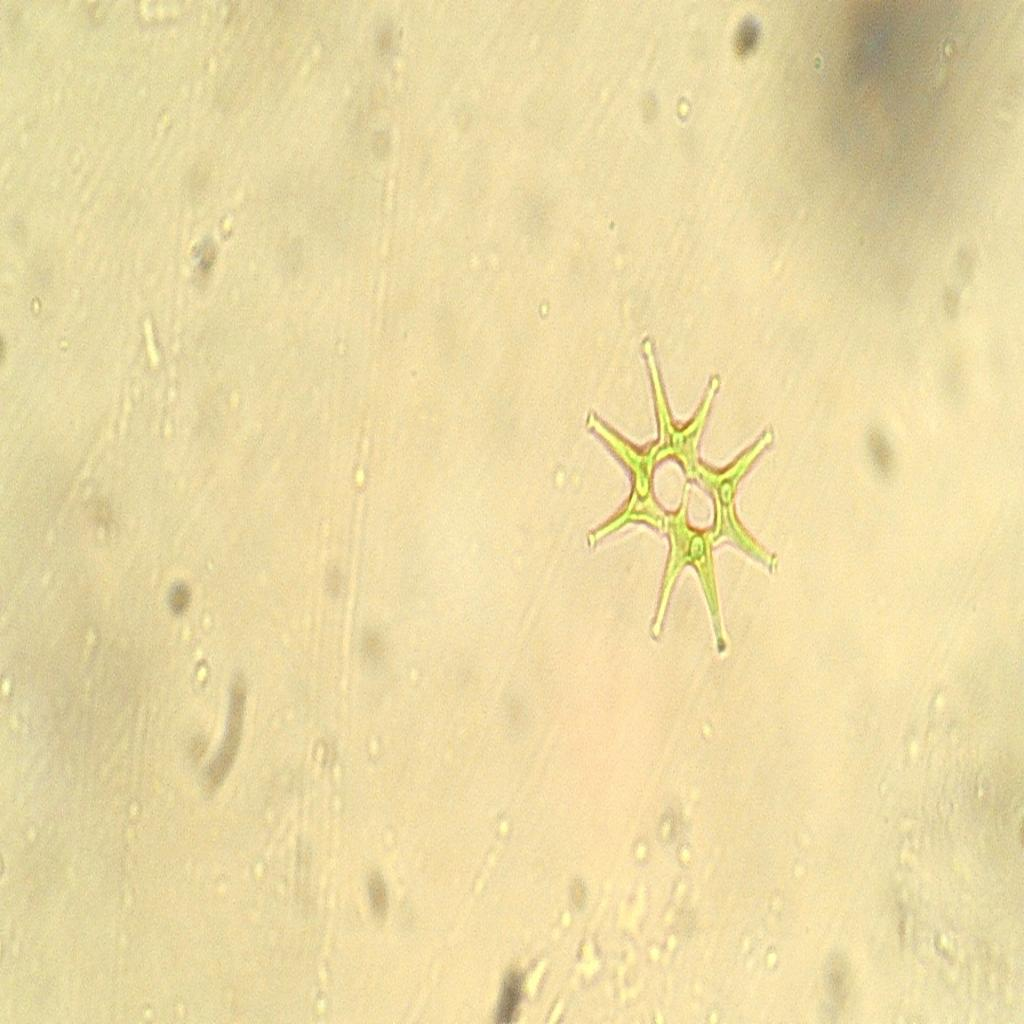Pediastrum_75FO: (566, 330, 793, 676)
